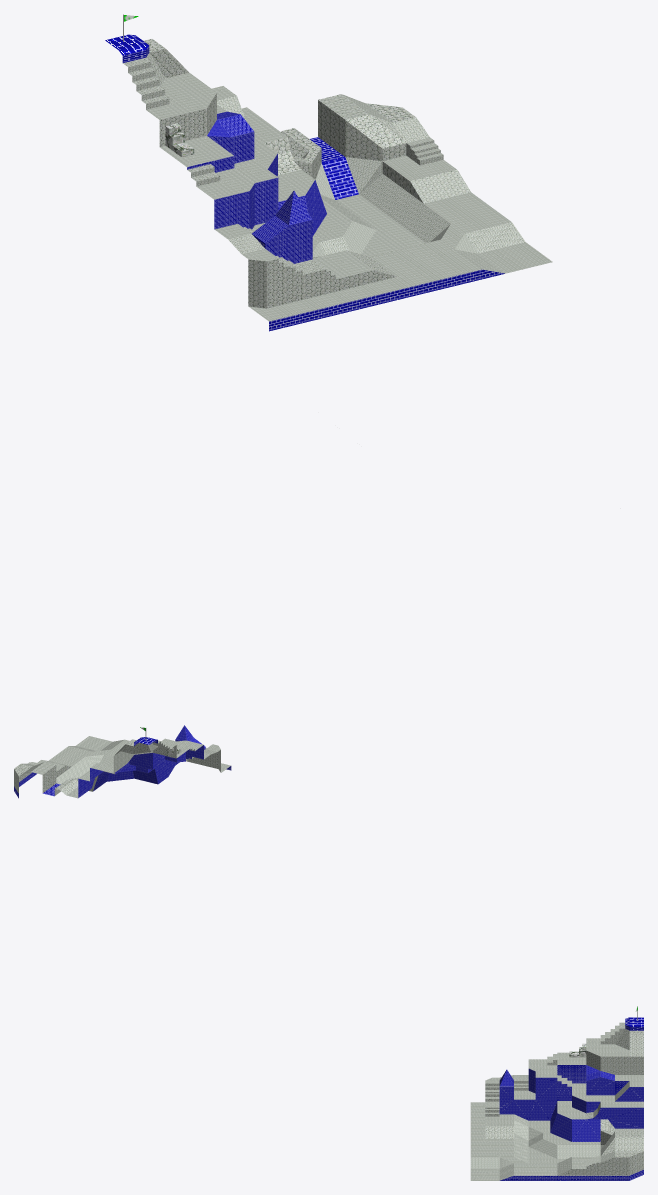
File: main.obj
3 renders of one model, top to bottom at view 1: azimuth 30°, elevation 25°; view 2: azimuth 150°, elevation 25°; view 3: azimuth 270°, elevation 25°, orthographic. The views are drawn at different scales.
Parts seen in each view (by area): view 1: node; view 2: node; view 3: node.
Part boxes in pixels (x1,y1,x2,y2): node: (105,34,552,331); node: (14,725,231,798); node: (470,1017,643,1180).
Size of the model in its own units: 152 by 73.89 by 232.
